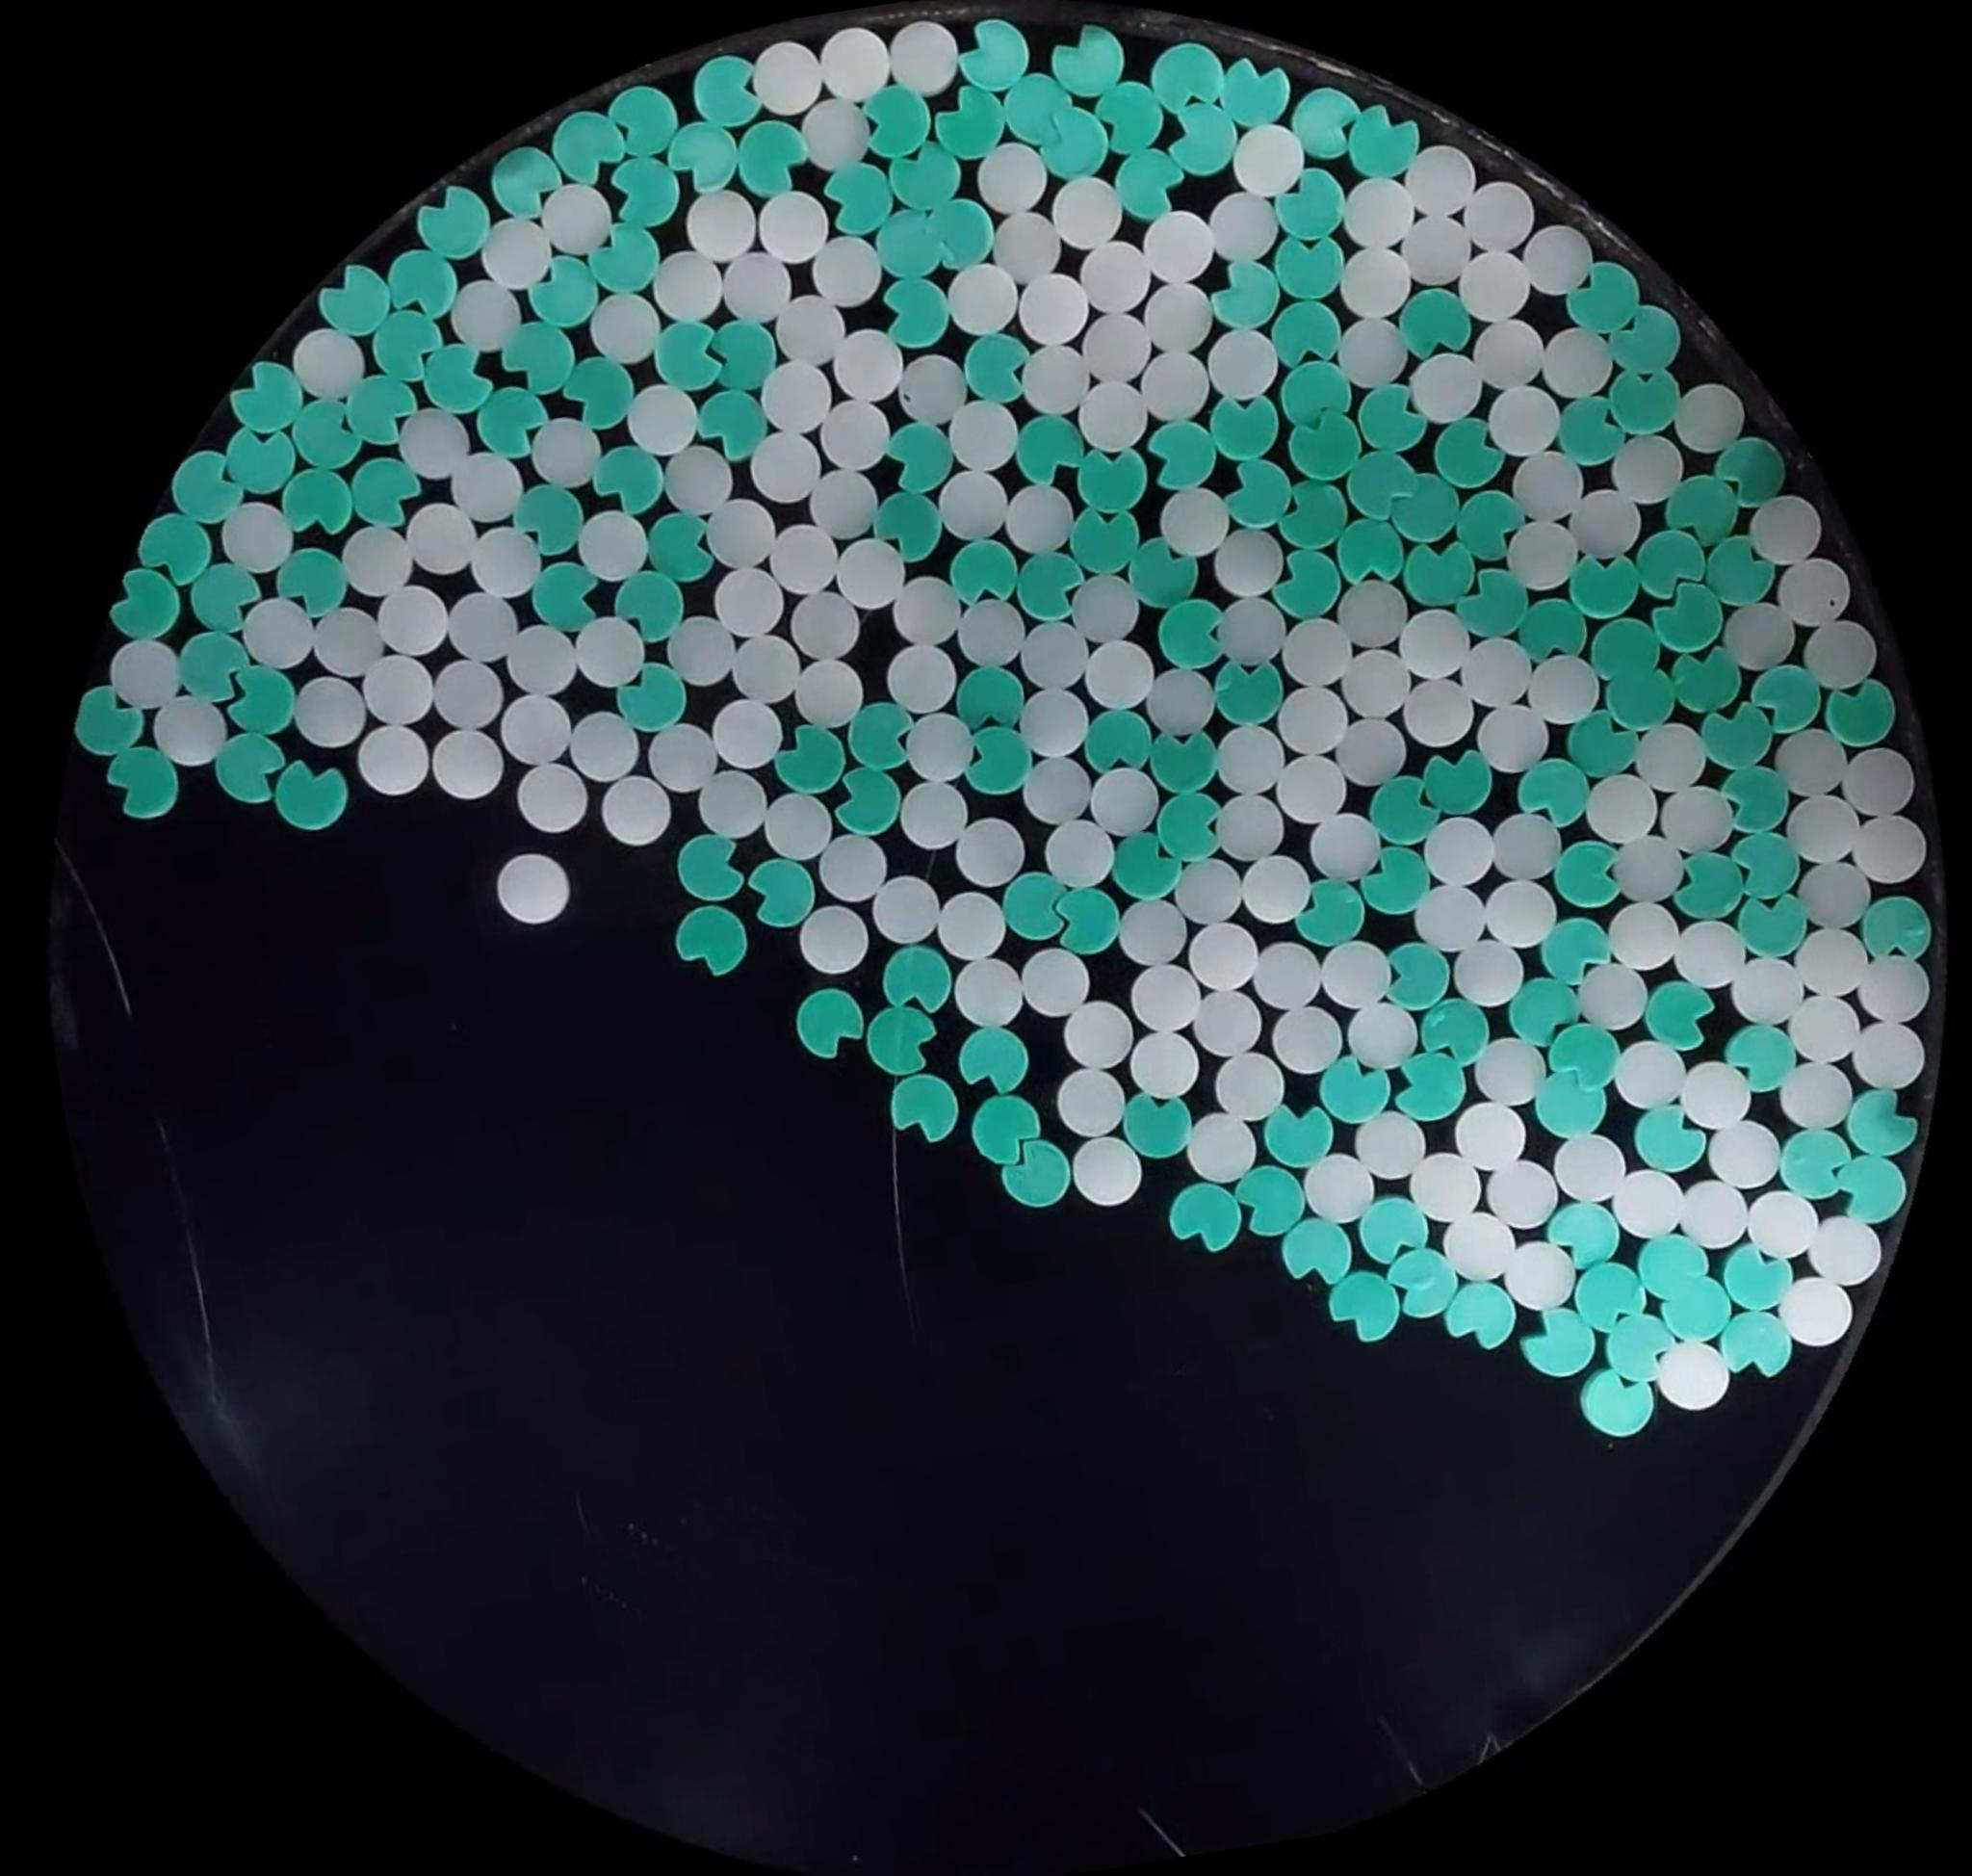no-convexa1: (495, 470, 602, 569), (602, 551, 699, 652), (516, 550, 611, 646), (1768, 1117, 1861, 1215), (1261, 537, 1352, 638), (1139, 580, 1227, 682), (984, 860, 1072, 962), (1056, 499, 1155, 588), (1271, 349, 1368, 439), (933, 652, 1028, 740), (1042, 18, 1137, 106), (1629, 518, 1718, 609), (998, 541, 1086, 634), (866, 476, 954, 569), (583, 215, 676, 303), (585, 437, 673, 528), (486, 317, 583, 400), (1373, 462, 1461, 551), (872, 268, 958, 359), (178, 548, 271, 632), (417, 331, 505, 419), (1703, 428, 1794, 513), (1597, 298, 1690, 380), (1854, 881, 1939, 971), (810, 151, 894, 241), (1199, 250, 1291, 333), (338, 365, 424, 451), (1713, 754, 1798, 842), (1579, 606, 1667, 691), (1380, 1242, 1461, 1333), (482, 141, 574, 222), (1396, 528, 1481, 615), (518, 252, 604, 336), (1692, 532, 1780, 615), (688, 380, 771, 469), (602, 151, 690, 234), (1542, 1196, 1632, 1277), (1046, 875, 1127, 965), (1269, 469, 1350, 558), (1562, 255, 1646, 340), (1268, 167, 1352, 252), (865, 201, 949, 285), (215, 657, 298, 743), (1285, 78, 1365, 167), (1217, 451, 1301, 534), (1393, 282, 1477, 365), (414, 180, 497, 264), (1356, 377, 1439, 462), (637, 506, 722, 588), (644, 315, 727, 400), (1453, 484, 1534, 571), (953, 12, 1035, 95), (1646, 578, 1729, 661), (1451, 562, 1534, 645), (1342, 102, 1424, 185), (1662, 469, 1745, 551), (1602, 361, 1685, 444), (1697, 698, 1780, 780), (669, 900, 752, 983), (1639, 974, 1722, 1057), (1125, 535, 1208, 618), (880, 141, 963, 224), (1511, 752, 1595, 833), (104, 743, 185, 828), (1160, 97, 1241, 181), (210, 728, 294, 809), (269, 756, 354, 837), (1574, 1362, 1659, 1443), (1509, 585, 1590, 669), (842, 692, 919, 780), (1065, 499, 1146, 581), (1426, 414, 1509, 495), (548, 104, 630, 185), (276, 462, 357, 544), (1562, 705, 1645, 786), (173, 625, 255, 706), (313, 261, 396, 342), (1107, 824, 1190, 905), (134, 509, 215, 592), (1528, 1062, 1611, 1143), (1599, 654, 1681, 735), (1652, 1267, 1734, 1348), (67, 680, 150, 761), (106, 564, 187, 646), (1162, 1178, 1245, 1259), (1542, 1018, 1625, 1099), (859, 999, 940, 1082), (1694, 696, 1778, 775), (1095, 78, 1173, 164), (560, 347, 636, 435), (995, 67, 1069, 157), (930, 83, 1011, 164), (1363, 770, 1444, 851), (218, 419, 299, 500), (1269, 225, 1350, 307), (167, 447, 248, 528), (1546, 835, 1627, 916), (1504, 971, 1585, 1052), (1322, 1267, 1403, 1348), (1715, 1304, 1796, 1385), (1667, 847, 1750, 927), (1146, 37, 1229, 116), (1342, 446, 1424, 525), (1387, 1046, 1470, 1126), (1534, 912, 1616, 992), (1840, 1083, 1923, 1163), (1437, 1275, 1519, 1355), (1152, 786, 1231, 868), (287, 391, 366, 474), (880, 419, 963, 499), (741, 849, 819, 934), (382, 245, 461, 326), (958, 720, 1037, 801), (1356, 840, 1437, 920), (470, 384, 551, 463), (1745, 659, 1826, 738), (1034, 100, 1113, 181), (1629, 1099, 1710, 1178), (1666, 641, 1745, 722), (1720, 1018, 1801, 1097), (1277, 1212, 1356, 1293), (1412, 992, 1493, 1071), (1213, 51, 1292, 132), (967, 1089, 1046, 1170), (1632, 1230, 1713, 1309), (826, 763, 907, 842), (1553, 393, 1634, 472), (366, 305, 447, 384), (1518, 1305, 1600, 1383), (1076, 703, 1160, 779), (1143, 416, 1222, 495), (1285, 407, 1365, 486), (732, 120, 812, 199), (771, 722, 850, 801), (613, 659, 692, 738), (1717, 1238, 1796, 1318), (1571, 1258, 1650, 1337), (995, 1134, 1074, 1214), (953, 1020, 1032, 1099), (1072, 440, 1153, 518), (1204, 388, 1285, 465), (1143, 724, 1224, 801), (607, 81, 685, 162), (1565, 548, 1646, 625), (1291, 874, 1372, 951), (1831, 1148, 1912, 1226), (703, 314, 776, 398), (1266, 294, 1345, 372), (1727, 828, 1805, 907), (229, 359, 306, 439), (1317, 1052, 1394, 1131), (687, 49, 764, 129), (1009, 410, 1088, 488), (1379, 937, 1456, 1016), (1210, 655, 1289, 733), (1118, 1089, 1197, 1166), (1600, 1309, 1678, 1388), (1231, 1161, 1308, 1240), (886, 1069, 963, 1148), (877, 939, 954, 1018), (271, 544, 349, 624), (791, 983, 866, 1064), (958, 331, 1035, 409), (946, 534, 1023, 611), (859, 85, 937, 162), (1821, 676, 1898, 754), (1331, 513, 1409, 590), (664, 118, 743, 194), (1734, 888, 1814, 964), (1417, 745, 1497, 821), (1102, 148, 1183, 222), (926, 194, 1000, 275), (671, 830, 747, 907), (1261, 1099, 1338, 1175), (688, 55, 764, 132), (1354, 1191, 1431, 1265), (347, 451, 419, 520)
